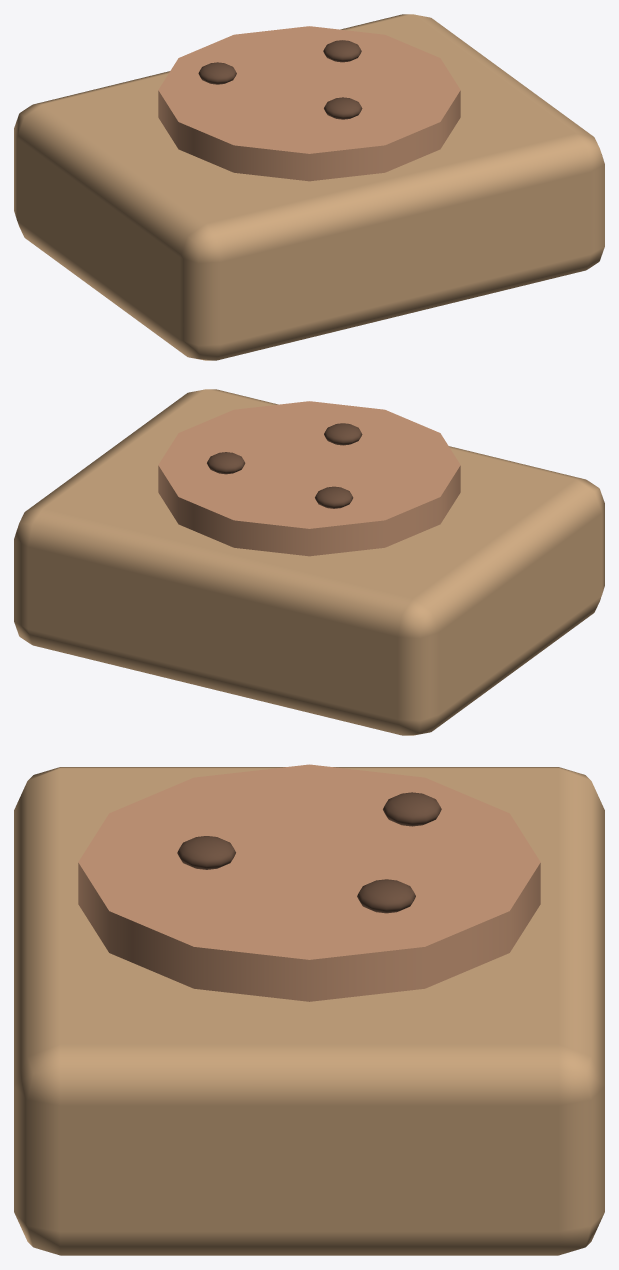
The model's file is cookie.glb.
3 renders of one model, top to bottom at view 1: azimuth 30°, elevation 25°; view 2: azimuth 150°, elevation 25°; view 3: azimuth 270°, elevation 25°, orthographic. The views are drawn at different scales.
Visible parts, largest first — view 1: cookie.material0, cookie.material1, cookie.material2; view 2: cookie.material0, cookie.material1, cookie.material2; view 3: cookie.material0, cookie.material1, cookie.material2.
Boxes of the visible parts, box(x1,y1,x2,y2) form: cookie.material0: box(14, 14, 604, 360); cookie.material1: box(158, 26, 460, 181); cookie.material2: box(198, 40, 362, 119); cookie.material0: box(14, 389, 604, 735); cookie.material1: box(158, 401, 460, 556); cookie.material2: box(207, 423, 362, 508); cookie.material0: box(14, 767, 604, 1255); cookie.material1: box(78, 764, 540, 1001); cookie.material2: box(177, 792, 441, 913).
Bounding box in the file's own units: 0.29 × 0.118 × 0.23.
